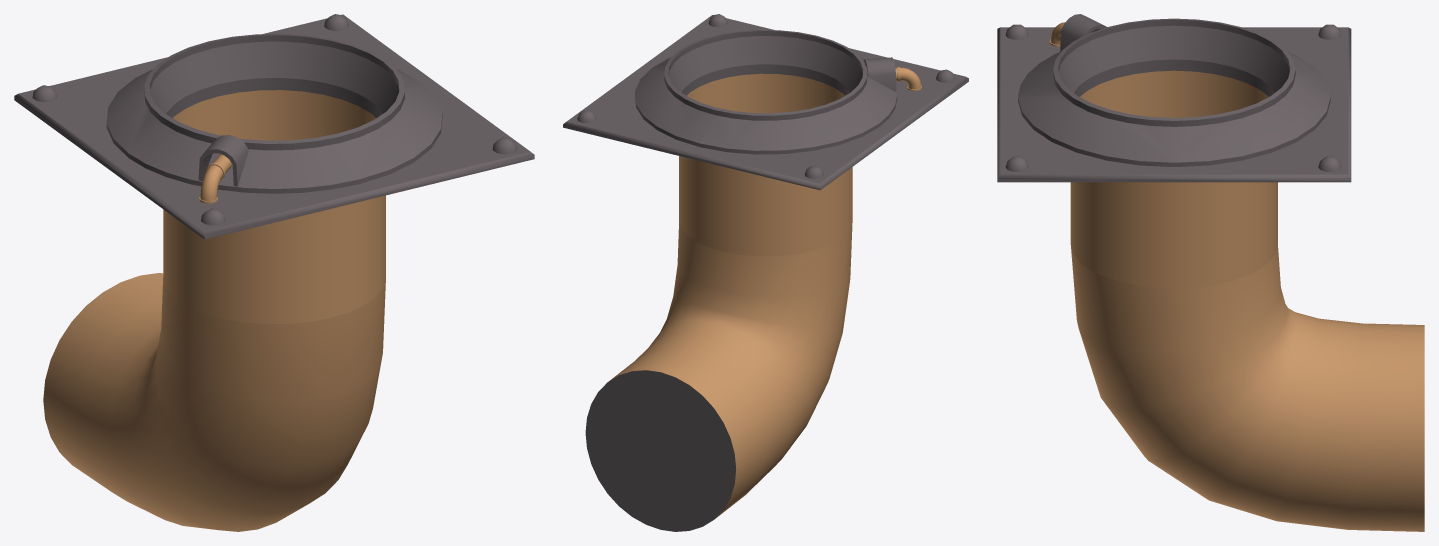
File: Vent_base.fbx
3 views of the same model, side by side, from view 1: azimuth 30°, elevation 25°; view 2: azimuth 150°, elevation 25°; view 3: azimuth 270°, elevation 25° (orthographic). The views are drawn at different scales.
Parts seen in each view (by area): view 1: Vent_base; view 2: Vent_base; view 3: Vent_base.
Boxes of the visible parts, x1=… form: Vent_base: x1=14, y1=14, x2=534, y2=531; Vent_base: x1=563, y1=14, x2=968, y2=531; Vent_base: x1=997, y1=14, x2=1424, y2=531.
Bounding box in the file's own units: 226 × 323 × 273.
